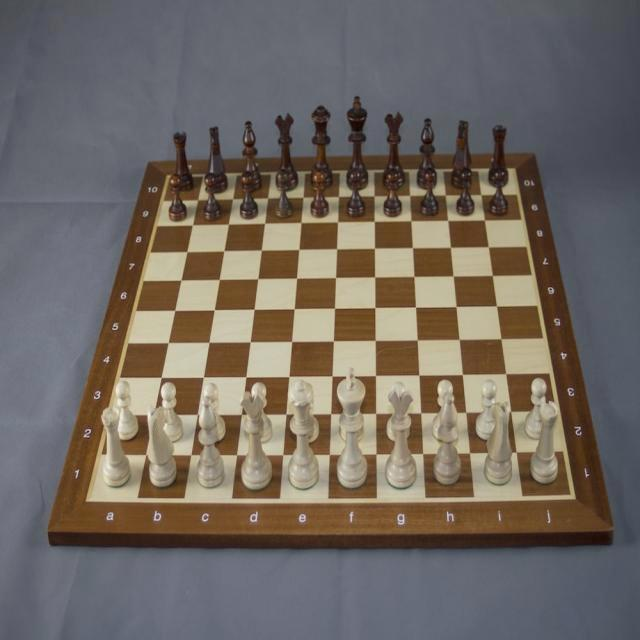chess-table-corners: (558, 480, 587, 518), (74, 484, 100, 524), (508, 156, 524, 179), (158, 164, 171, 182)
